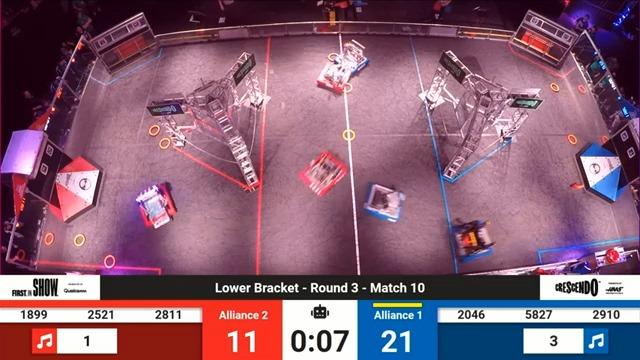robot: (444, 214, 504, 262), (297, 147, 353, 197), (131, 181, 184, 231), (365, 178, 411, 231), (310, 59, 351, 96), (333, 42, 372, 79)
